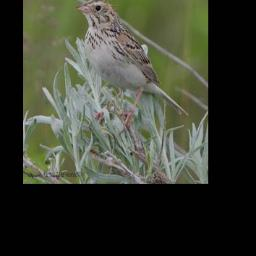Sparrow: (75, 0, 190, 136)
